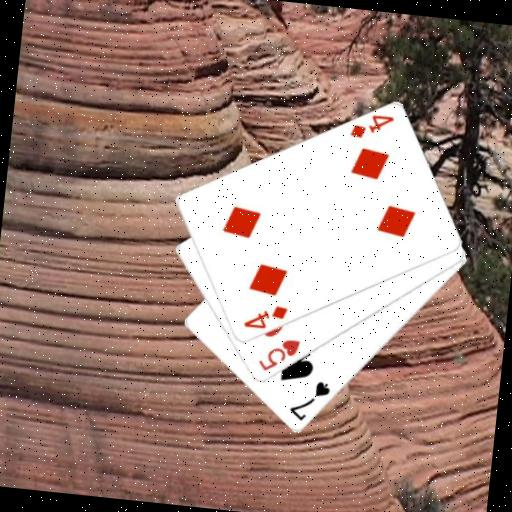4D: (240, 299, 290, 334), (346, 109, 396, 144)
5H: (254, 333, 303, 376)
7S: (285, 376, 333, 426)
